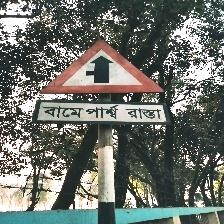Side-road-left: (35, 39, 170, 129)
